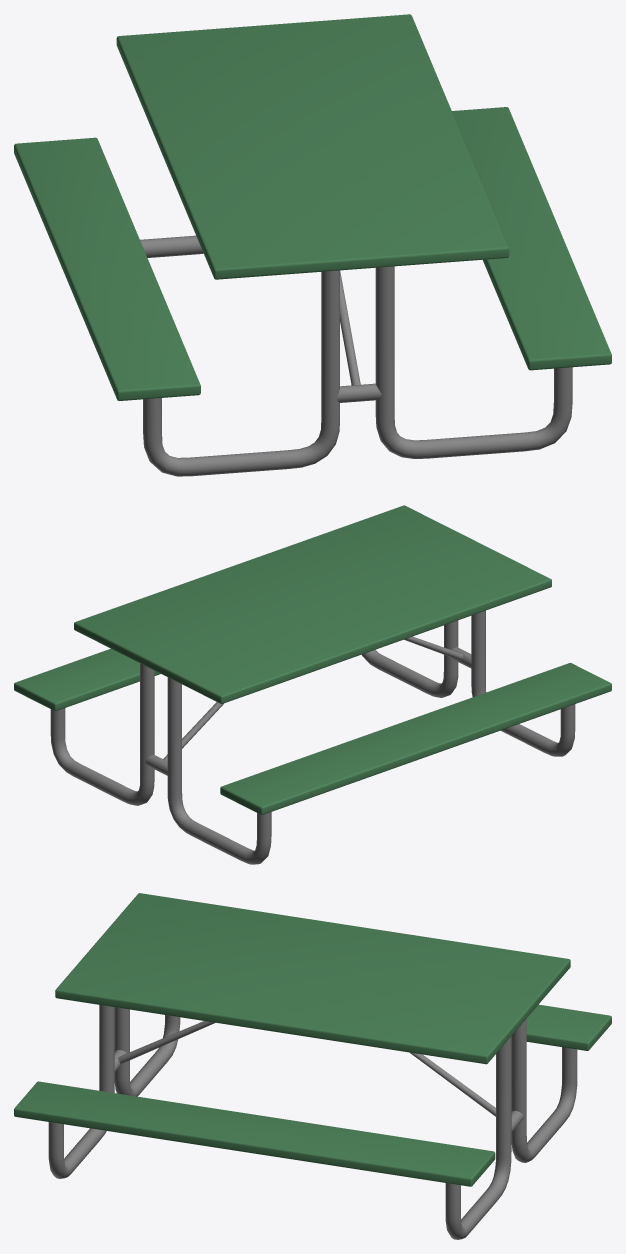
Rendered from lawka.glb.
The picture shows the model from 3 angles, top to bottom: view 1: azimuth 30°, elevation 25°; view 2: azimuth 150°, elevation 25°; view 3: azimuth 270°, elevation 25°; orthographic projection. The views are drawn at different scales.
Parts seen in each view (by area): view 1: frame; view 2: frame; view 3: frame.
Part boxes in pixels (bbox=[...]): frame: bbox=[14, 14, 611, 476]; frame: bbox=[14, 505, 611, 864]; frame: bbox=[14, 893, 611, 1239].
Size of the model in its own units: 2.84 by 0.9922 by 3.07.
